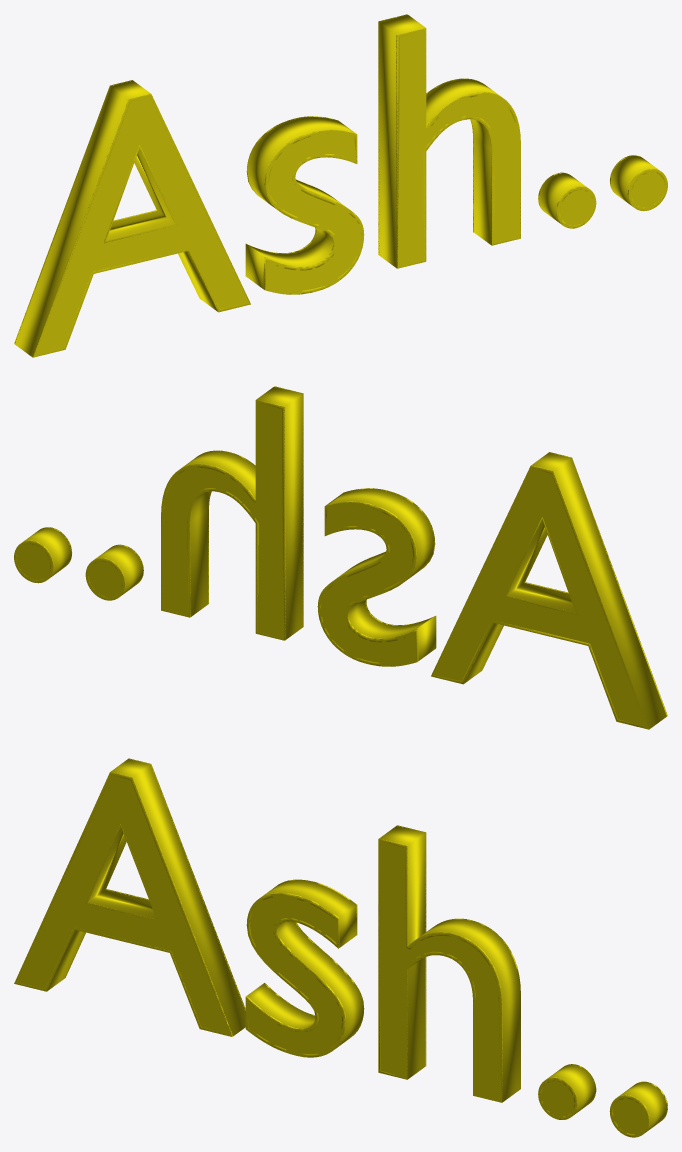
Rendered from ash.glb.
3 renders of one model, top to bottom at view 1: azimuth 30°, elevation 25°; view 2: azimuth 150°, elevation 25°; view 3: azimuth 330°, elevation 25°, orthographic.
Visible parts, largest first — view 1: Ash..; view 2: Ash..; view 3: Ash...
Part boxes in pixels (x1,y1,x2,y2): Ash..: [14, 14, 667, 357]; Ash..: [14, 386, 667, 729]; Ash..: [14, 758, 667, 1137].
Bounding box in the file's own units: 1.94 × 0.695 × 0.1.
